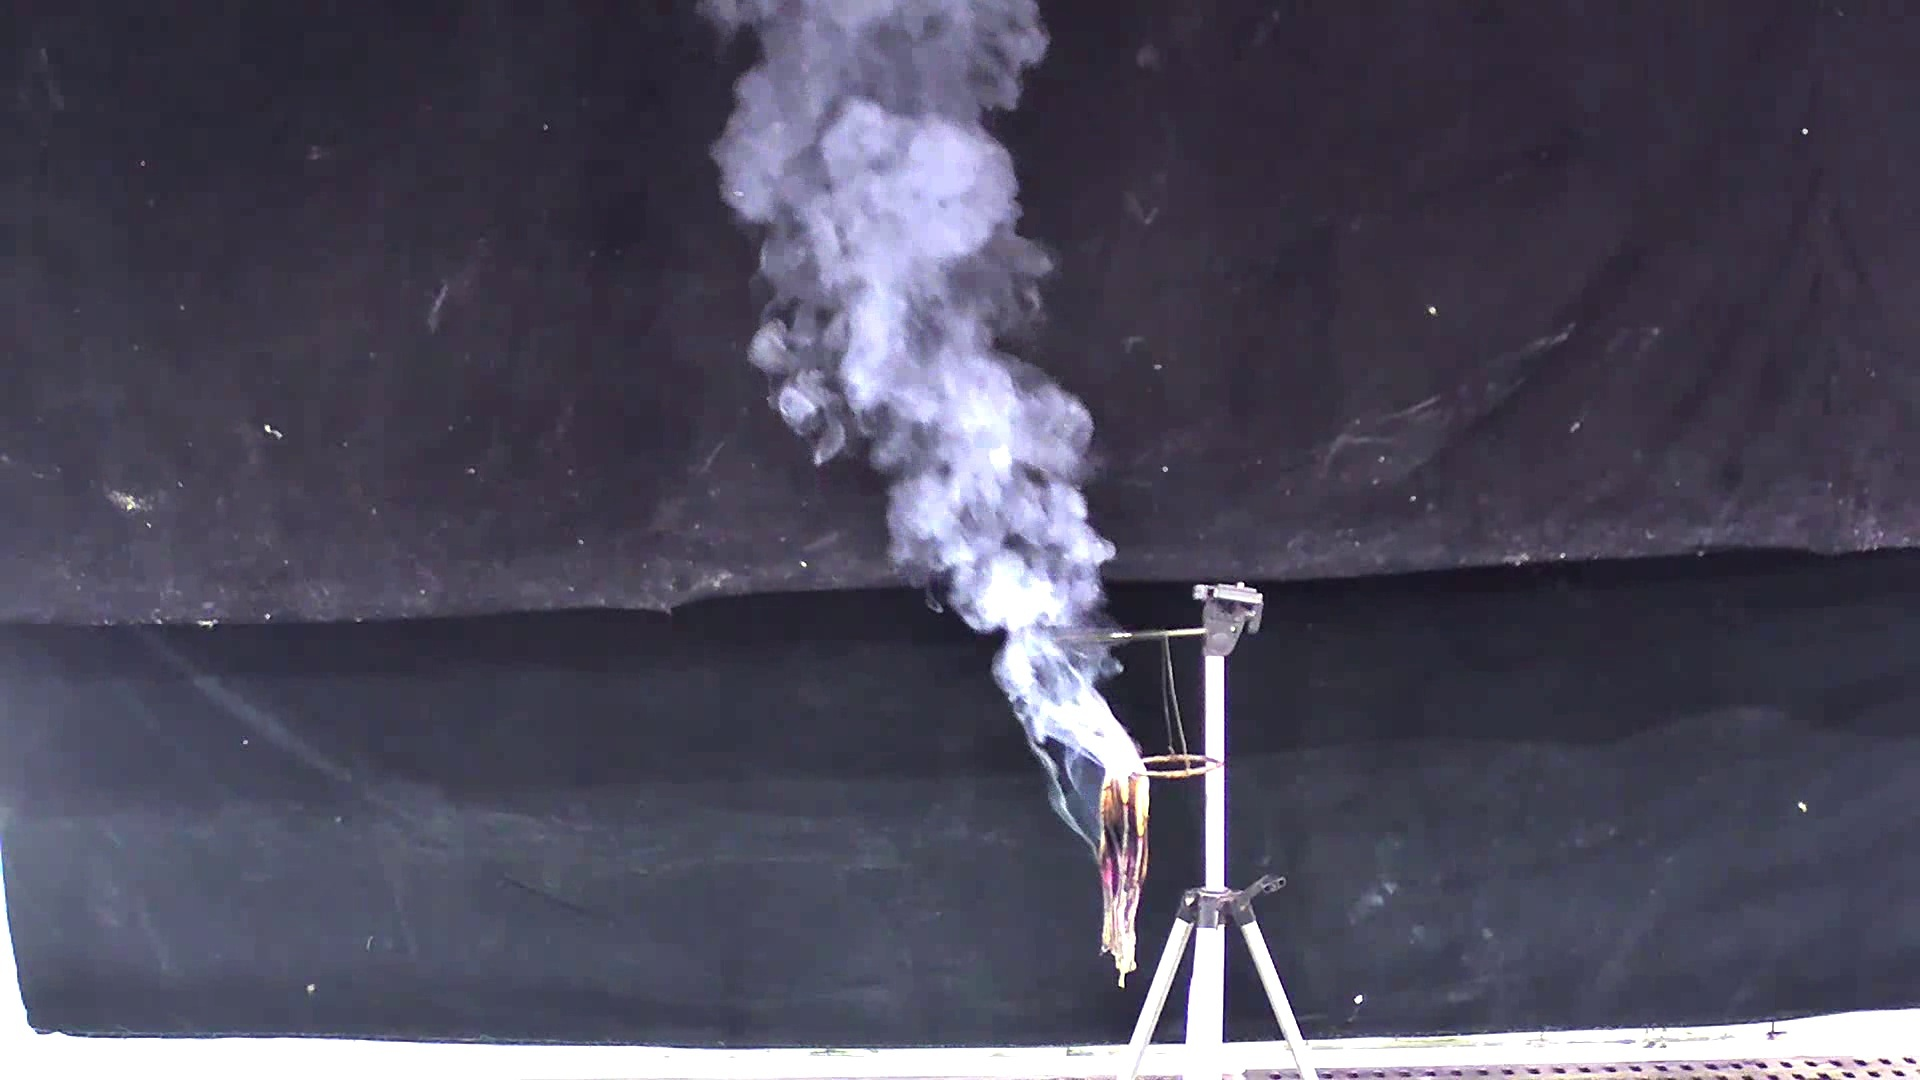smoke: (690, 3, 1163, 837)
